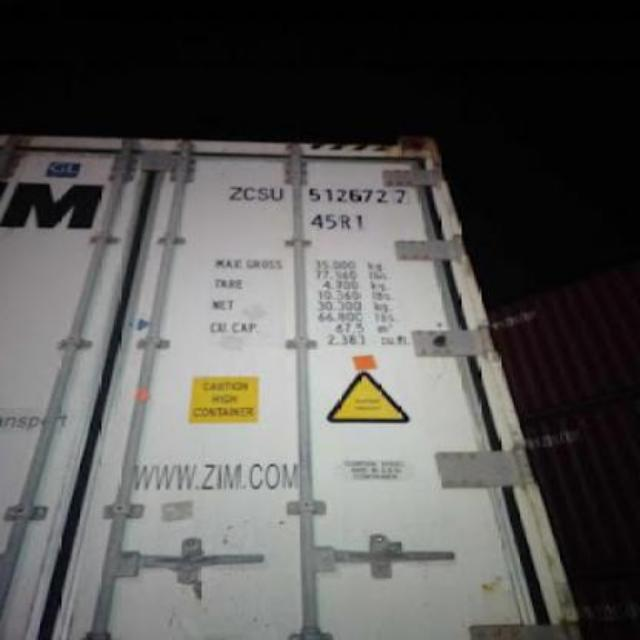1: (324, 187, 334, 203)
2: (335, 187, 349, 203), (374, 189, 388, 205)
5: (308, 186, 322, 204)
6: (348, 188, 362, 202)
7: (392, 189, 408, 207), (362, 188, 373, 205)
C: (244, 185, 256, 202)
S: (258, 186, 270, 202)
U: (271, 186, 285, 202)
Z: (228, 184, 242, 202)
